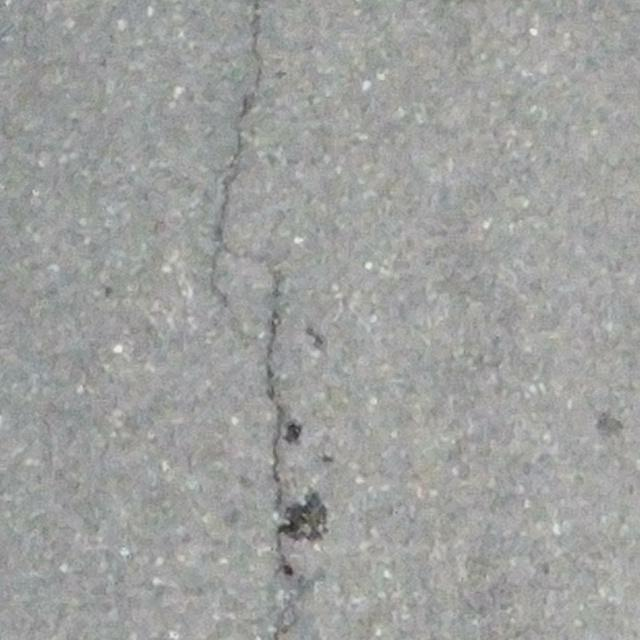LongitudinalCrack: (205, 1, 265, 305), (266, 308, 295, 580)
